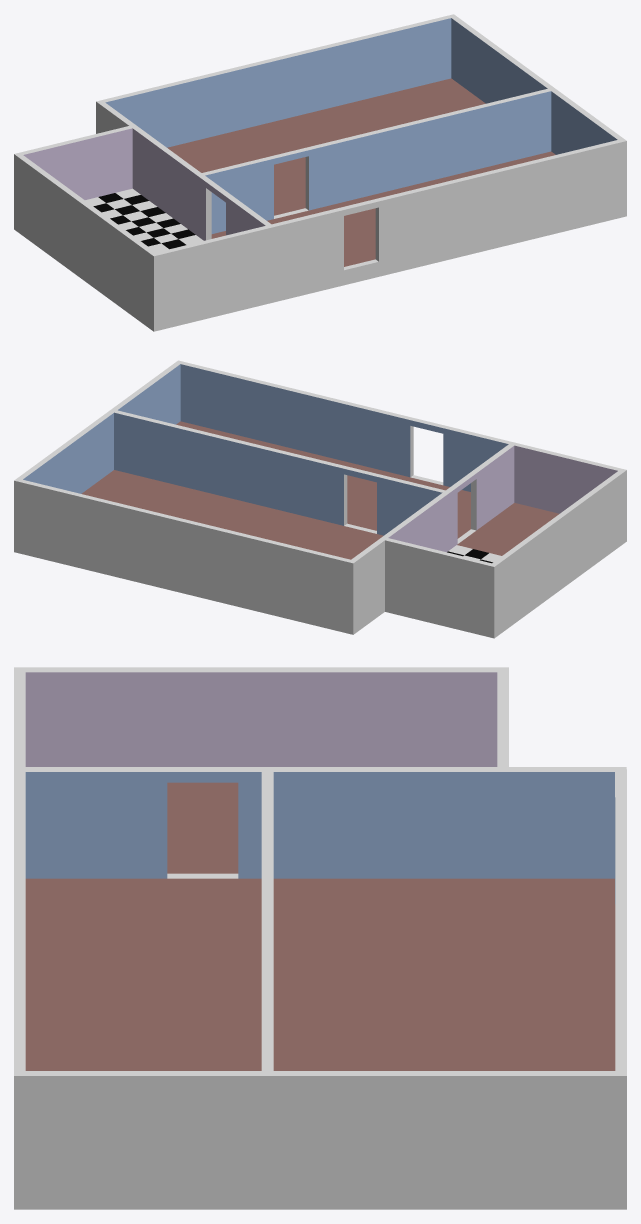
The model's file is Floor_1.fbx.
3 views of the same model, one above another, from view 1: azimuth 30°, elevation 25°; view 2: azimuth 150°, elevation 25°; view 3: azimuth 270°, elevation 25° (orthographic). The views are drawn at different scales.
Visible parts, largest first — view 1: Cube; view 2: Cube; view 3: Cube.
Boxes of the visible parts, x1,y1,x2,y2 form: Cube: (14,14,626,331); Cube: (14,360,626,638); Cube: (14,667,626,1209).
Size of the model in its own units: 1640 by 250 by 1040.
